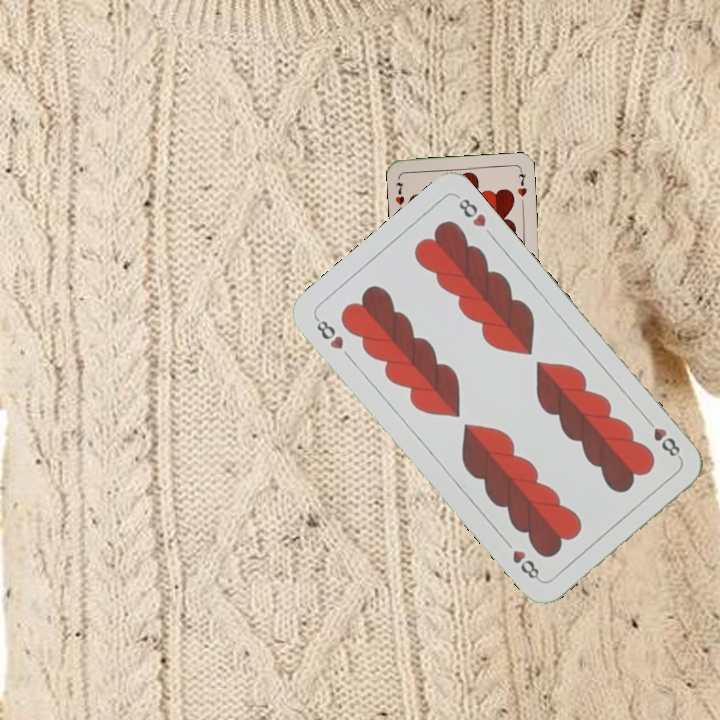H7: (391, 178, 407, 215)
H8: (641, 413, 684, 461), (311, 313, 346, 352)
